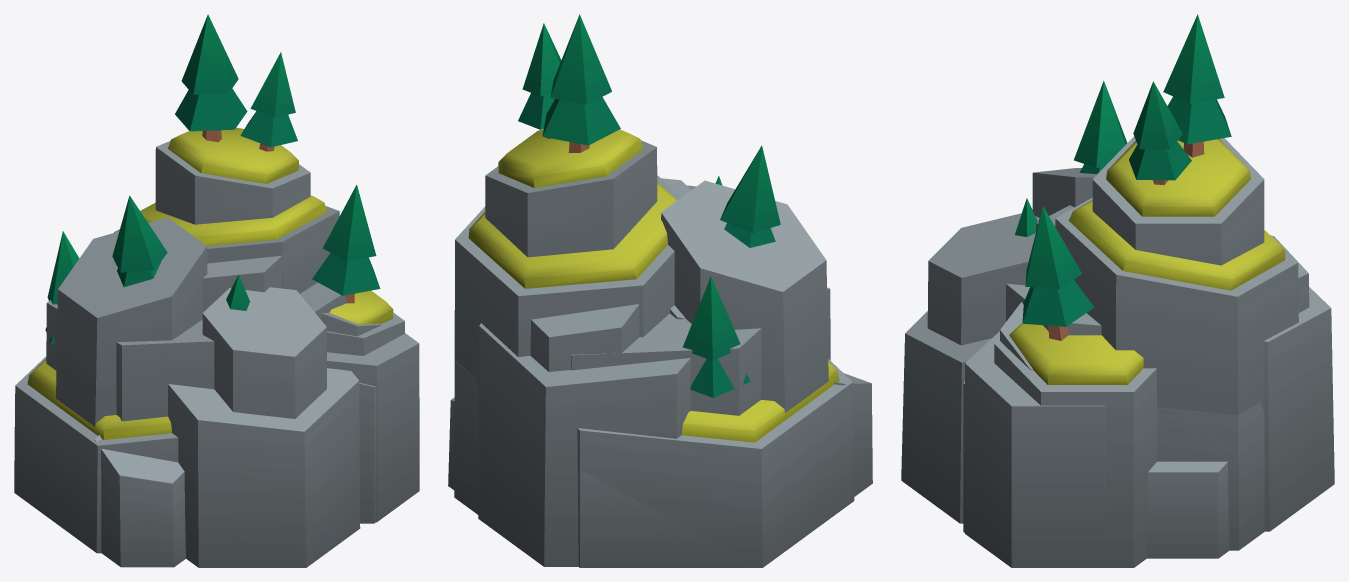
The model's file is pirate-kit.glb.
3 views of the same model, side by side, from view 1: azimuth 30°, elevation 25°; view 2: azimuth 150°, elevation 25°; view 3: azimuth 270°, elevation 25° (orthographic). The views are drawn at different scales.
Parts seen in each view (by area): view 1: mountain_C, mountain_B_grass_trees, mountain_B, mountain_A; view 2: mountain_C, mountain_B, mountain_B_grass_trees, mountain_A; view 3: mountain_C, mountain_B, mountain_B_grass_trees, mountain_A.
Part boxes in pixels (left/top/right/bottom): mountain_C: left=56, top=217, right=380, bottom=567; mountain_B_grass_trees: left=27, top=14, right=393, bottom=439; mountain_B: left=14, top=141, right=404, bottom=553; mountain_A: left=46, top=255, right=419, bottom=522; mountain_C: left=448, top=180, right=872, bottom=566; mountain_B: left=454, top=140, right=854, bottom=567; mountain_B_grass_trees: left=468, top=14, right=839, bottom=442; mountain_A: left=454, top=178, right=761, bottom=567; mountain_C: left=901, top=168, right=1334, bottom=558; mountain_B: left=994, top=136, right=1298, bottom=567; mountain_B_grass_trees: left=1009, top=14, right=1285, bottom=384; mountain_A: left=965, top=205, right=1264, bottom=567.
Bounding box in the file's own units: 25.75 × 37.12 × 28.93.
Materials: 5 (5 with a texture image).
